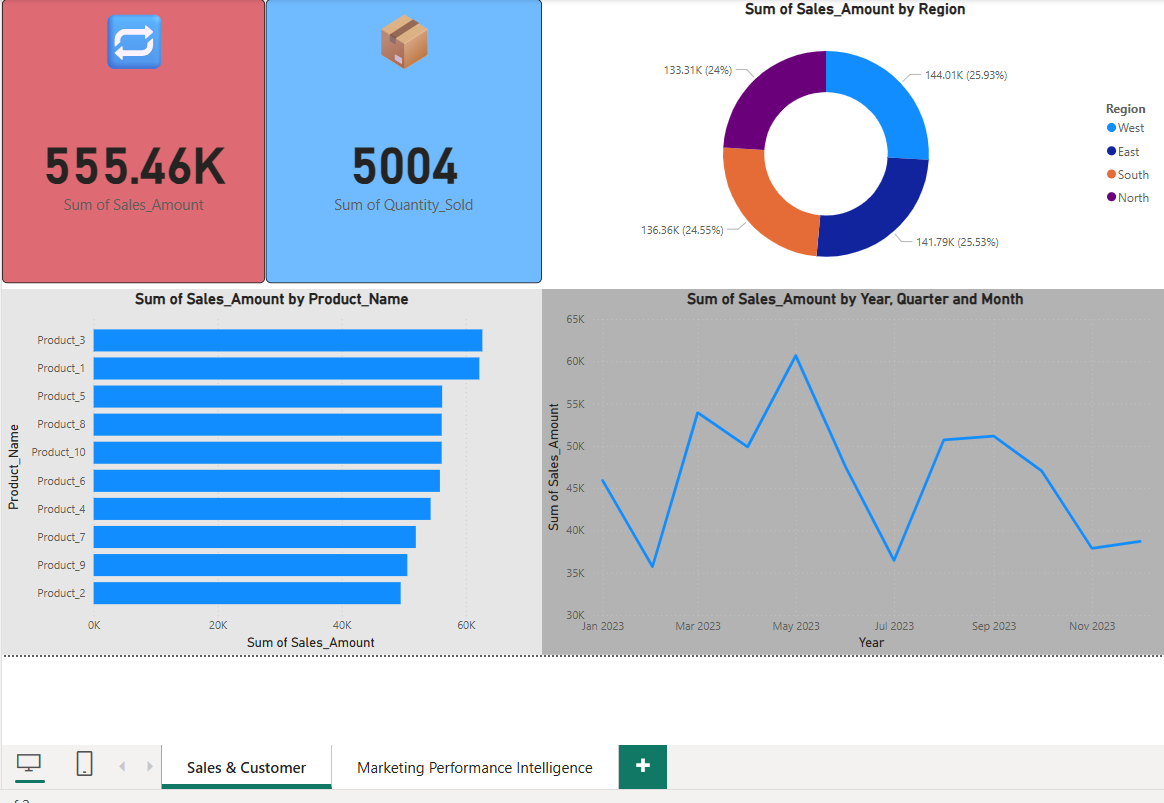

What the dashboard file says about the page in this screenshot:
{"tool":"powerbi","page":{"name":"Sales & Customer","canvas":[1280,720],"ordinal":0},"visuals":[{"type":"card","title":"🔁","fields":{"Values":["Sum(Sales_Data.Sales_Amount)"]},"box":[0,0,288.9,312.4],"z":0},{"type":"card","title":"📦","fields":{"Values":["Sum(Sales_Data.Quantity_Sold)"]},"box":[288.9,0,303.6,312.4],"z":1000},{"type":"clusteredBarChart","fields":{"Y":["Sum(Sales_Data.Sales_Amount)"],"Category":["Product_Data.Product_Name"]},"box":[0,318.2,592.5,401.8],"z":2000},{"type":"donutChart","fields":{"Y":["Sum(Sales_Data.Sales_Amount)"],"Category":["Sales_Data.Region"]},"box":[592.5,0,687.8,321.2],"z":3000},{"type":"lineChart","fields":{"Category":["Sales_Data.Date.Variation.Date Hierarchy.Year","Sales_Data.Date.Variation.Date Hierarchy.Quarter","Sales_Data.Date.Variation.Date Hierarchy.Month"],"Y":["Sum(Sales_Data.Sales_Amount)"]},"box":[592.5,318.2,687.8,401.8],"z":4000}]}

Visuals, with their boxes on the page's 1280x720 design canvas (x1, y1, x2, y2). These are canvas units, not pixel positions in the 1164x803 screenshot, which may show the page scaled, cropped or inside an application window:
"🔁" card: pyautogui.locateOnScreen(0, 0, 289, 312)
"📦" card: pyautogui.locateOnScreen(289, 0, 592, 312)
clusteredBarChart - Sum(Sales_Data.Sales_Amount) x Product_Data.Product_Name: pyautogui.locateOnScreen(0, 318, 592, 720)
donutChart - Sum(Sales_Data.Sales_Amount) x Sales_Data.Region: pyautogui.locateOnScreen(592, 0, 1280, 321)
lineChart - Sales_Data.Date.Variation.Date Hierarchy.Year x Sales_Data.Date.Variation.Date Hierarchy.Quarter: pyautogui.locateOnScreen(592, 318, 1280, 720)
